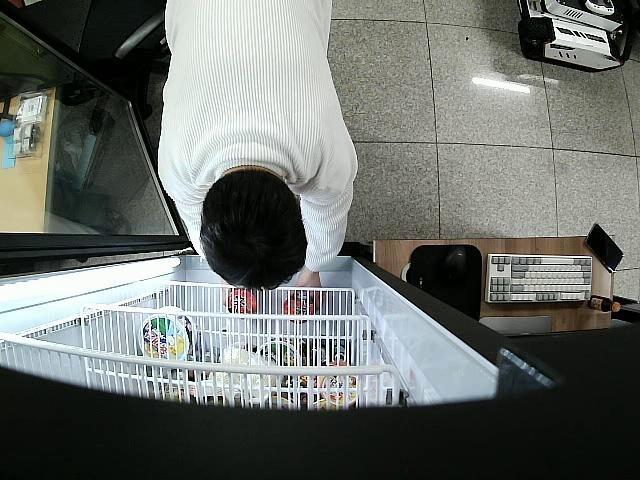02_shinRamen_S: (284, 292, 317, 325)
